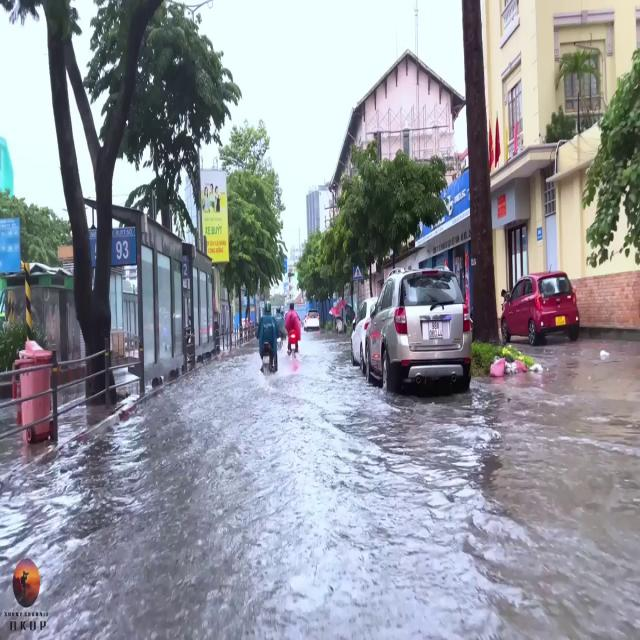bien_trang: (428, 319, 446, 341)
